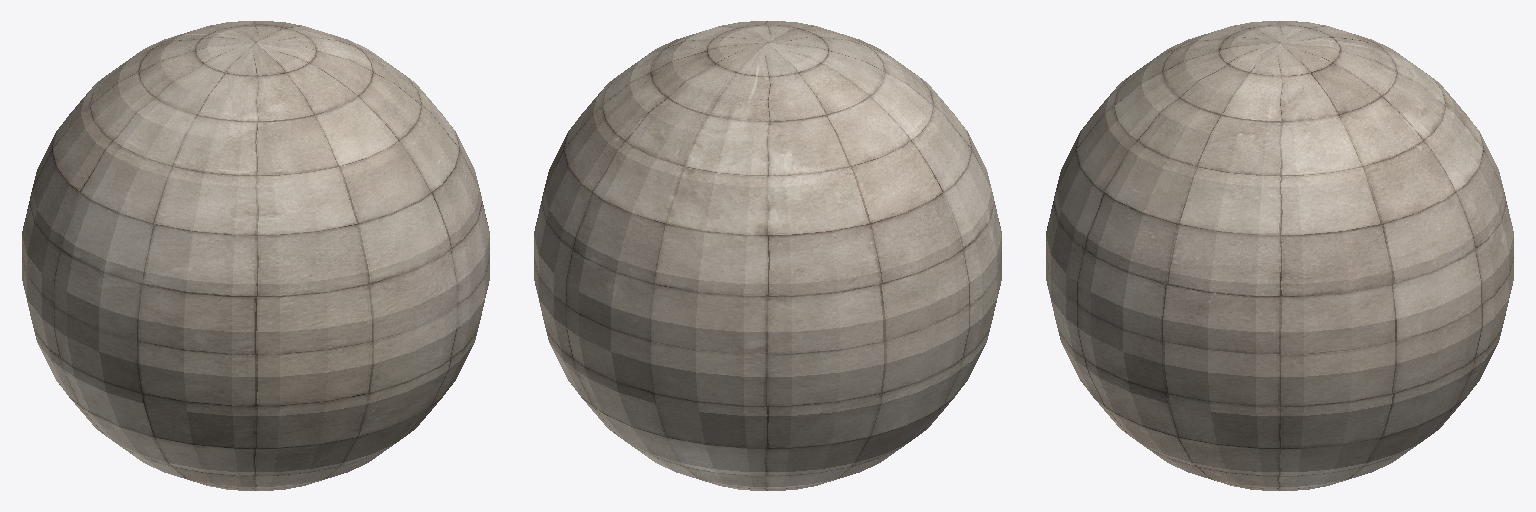
3 renders of one model, left to right at view 1: azimuth 30°, elevation 25°; view 2: azimuth 150°, elevation 25°; view 3: azimuth 270°, elevation 25°, orthographic.
Visible parts, largest first — view 1: Ball; view 2: Ball; view 3: Ball.
Part boxes in pixels (x1,y1,x2,y2): Ball: (22, 21, 489, 490); Ball: (534, 21, 1001, 490); Ball: (1046, 21, 1513, 490).
Bounding box in the file's own units: 0.9891 × 1 × 0.9945.
Materials: 2 (1 with a texture image).